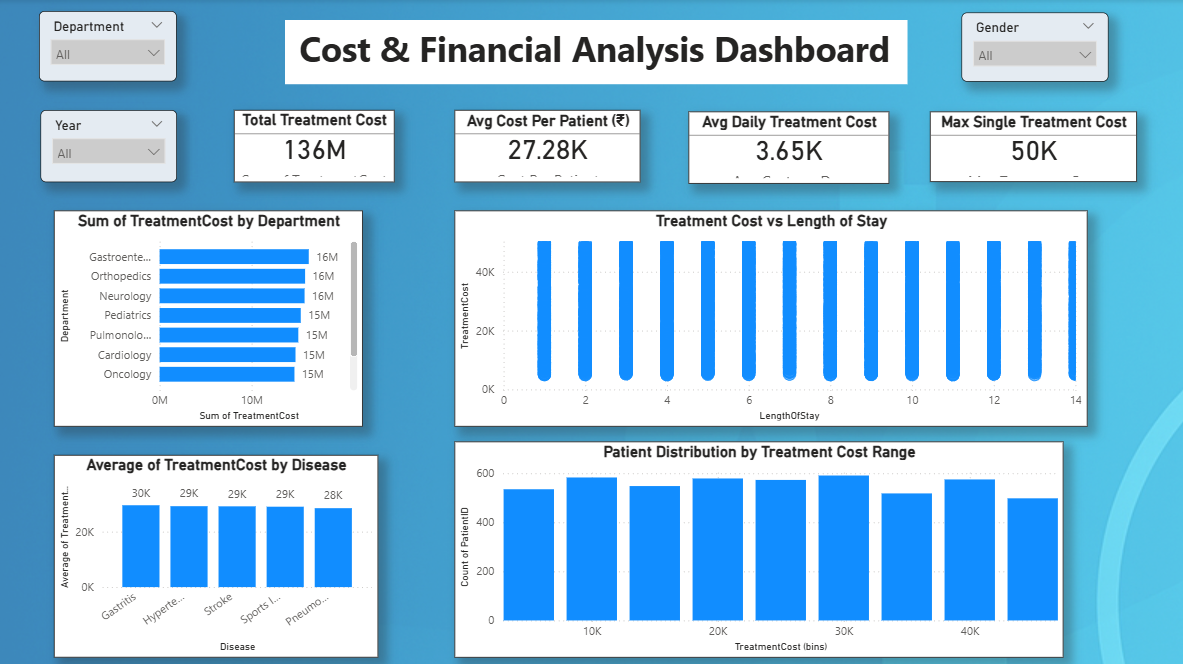

The dashboard page shown, as its layout file describes it:
{"tool":"powerbi","page":{"name":" Cost & Financial Analysis Dashboard ","canvas":[1280,720],"ordinal":4},"visuals":[{"type":"textbox","box":[307.7,22.7,672,69.6],"z":0},{"type":"slicer","fields":{"Values":["healthcare_project_5000.Department"]},"box":[42.1,13,149,76.1],"z":1000},{"type":"slicer","fields":{"Values":["healthcare_project_5000.Year"]},"box":[43.7,119.8,147.3,77.7],"z":2000},{"type":"slicer","fields":{"Values":["healthcare_project_5000.Gender"]},"box":[1037.9,14.6,158.7,74.5],"z":3000},{"type":"card","title":"Total Treatment Cost","fields":{"Values":["Sum(healthcare_project_5000.TreatmentCost)"]},"box":[252.6,119.8,173.3,77.7],"z":4000},{"type":"card","title":"Avg Cost Per Patient (₹)","fields":{"Values":["healthcare_project_5000.Cost Per Patient"]},"box":[490.6,119.8,200.8,77.7],"z":5000},{"type":"card","title":"Avg Daily Treatment  Cost","fields":{"Values":["healthcare_project_5000.Avg Cost per Day"]},"box":[743.2,121.4,217,77.7],"z":6000},{"type":"card","title":"Max Single Treatment Cost","fields":{"Values":["healthcare_project_5000.Max Treatment Cost"]},"box":[1003.9,121.4,223.5,76.1],"z":7000},{"type":"barChart","fields":{"Category":["healthcare_project_5000.Department"],"Y":["Sum(healthcare_project_5000.TreatmentCost)"]},"box":[58.3,228.3,333.6,233.2],"z":8000},{"type":"columnChart","fields":{"Category":["healthcare_project_5000.Disease"],"Y":["Avg(healthcare_project_5000.TreatmentCost)"]},"box":[58.3,492.2,349.8,218.6],"z":9000},{"type":"scatterChart","title":"Treatment Cost vs Length of Stay","fields":{"X":["healthcare_project_5000.LengthOfStay"],"Y":["healthcare_project_5000.TreatmentCost"]},"box":[490.6,228.3,683.3,233.2],"z":10000},{"type":"columnChart","title":"Patient Distribution by Treatment Cost Range","fields":{"Y":["CountNonNull(healthcare_project_5000.PatientID)"],"Category":["healthcare_project_5000.TreatmentCost (bins)"]},"box":[490.6,477.7,657.4,233.2],"z":11000}]}

Visuals, with their boxes in screenshot pixels (x1, y1, x2, y2), scaled from the page's 1280x720 canvas onto the 1183x664 screenshot:
textbox: (284,21,905,85)
slicer - healthcare_project_5000.Department: (39,12,177,82)
slicer - healthcare_project_5000.Year: (40,110,177,182)
slicer - healthcare_project_5000.Gender: (959,13,1106,82)
"Total Treatment Cost" card: (233,110,394,182)
"Avg Cost Per Patient (₹)" card: (453,110,639,182)
"Avg Daily Treatment  Cost" card: (687,112,887,184)
"Max Single Treatment Cost" card: (928,112,1134,182)
barChart - healthcare_project_5000.Department x Sum(healthcare_project_5000.TreatmentCost): (54,211,362,426)
columnChart - healthcare_project_5000.Disease x Avg(healthcare_project_5000.TreatmentCost): (54,454,377,656)
"Treatment Cost vs Length of Stay" scatterChart: (453,211,1085,426)
"Patient Distribution by Treatment Cost Range" columnChart: (453,441,1061,656)
